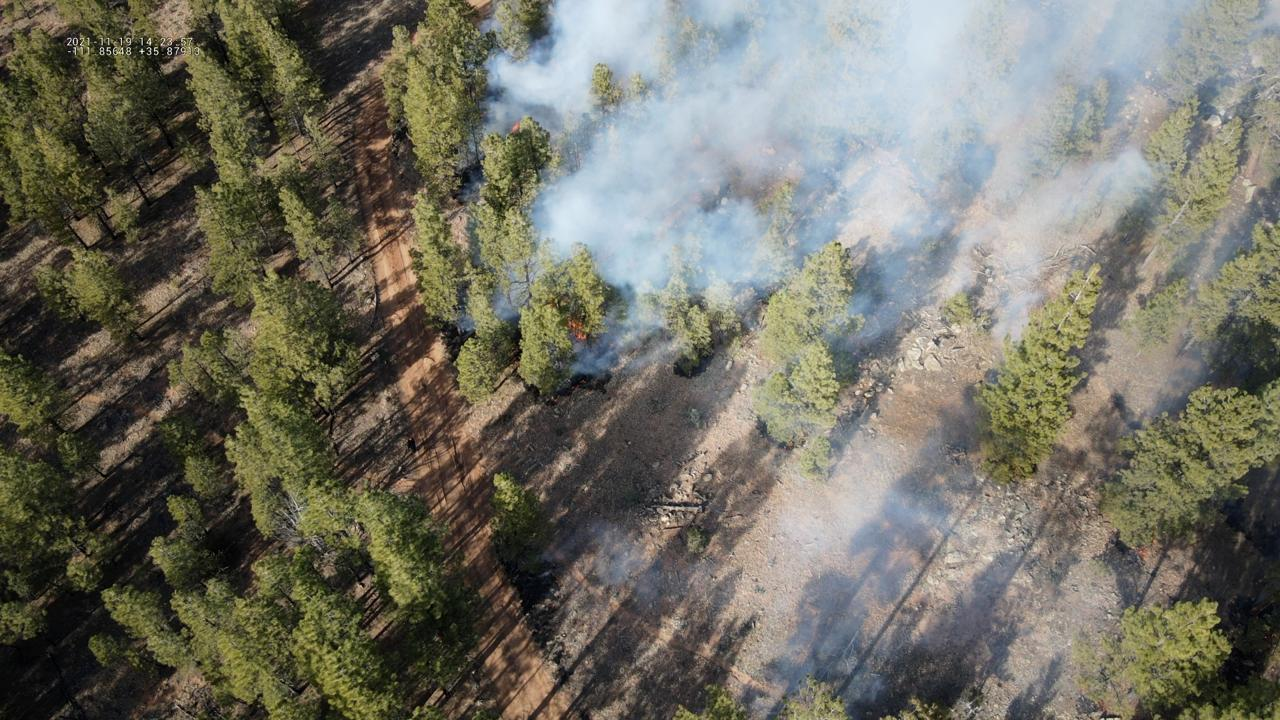fire: (566, 316, 587, 341), (1136, 545, 1152, 558), (509, 121, 520, 134)
smoke: (448, 0, 1280, 399), (736, 413, 959, 720), (538, 516, 671, 611)
